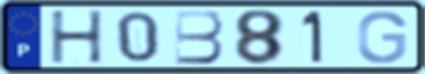0: (114, 10, 164, 64)
1: (299, 10, 325, 64)
8: (232, 7, 288, 67)
B: (173, 8, 227, 66)
G: (355, 9, 409, 65)
H: (48, 8, 106, 66)
